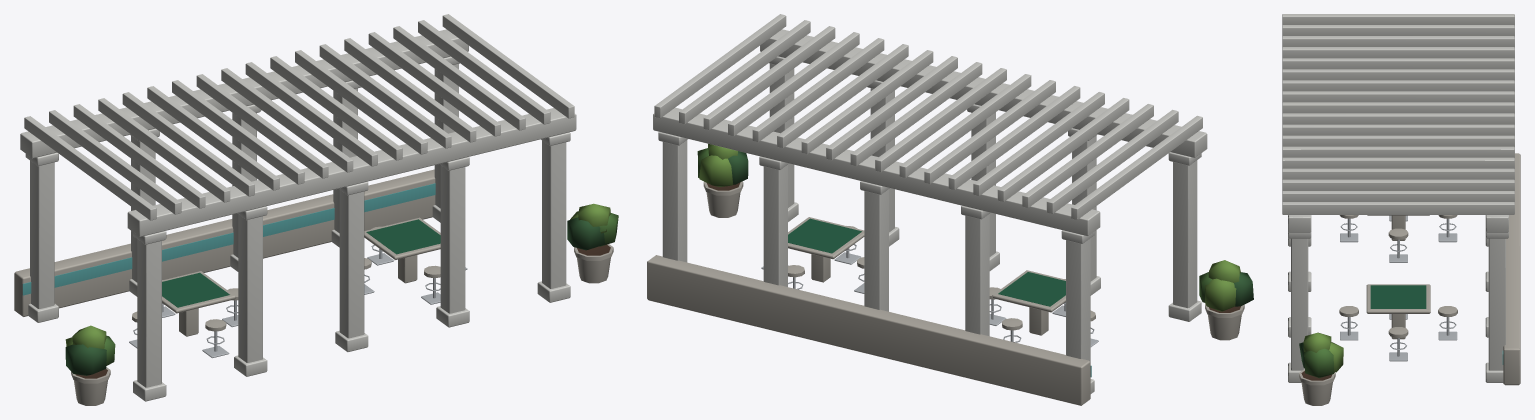
Rendered from DominoParkMIA.fbx.
The picture shows the model from 3 angles, left to right: view 1: azimuth 30°, elevation 25°; view 2: azimuth 150°, elevation 25°; view 3: azimuth 270°, elevation 25°; orthographic projection. The views are drawn at different scales.
Parts seen in each view (by area): view 1: DominoParkMIA; view 2: DominoParkMIA; view 3: DominoParkMIA.
Part boxes in pixels (x1,y1,x2,y2): DominoParkMIA: (14, 14, 618, 405); DominoParkMIA: (647, 14, 1253, 405); DominoParkMIA: (1282, 14, 1520, 405).
Size of the model in its own units: 10.09 by 3.4 by 4.1.
